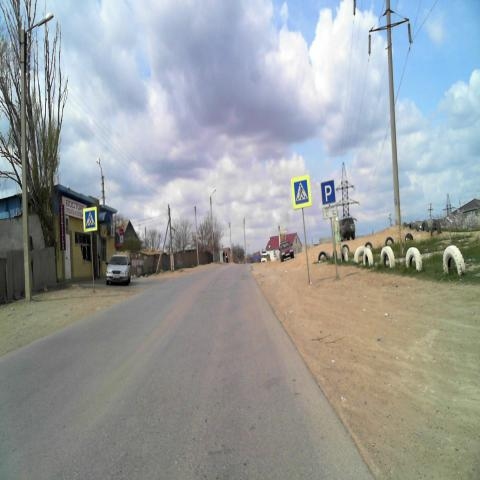5_19_1: (292, 176, 310, 209), (83, 206, 98, 232)
6_4: (320, 180, 336, 205)
